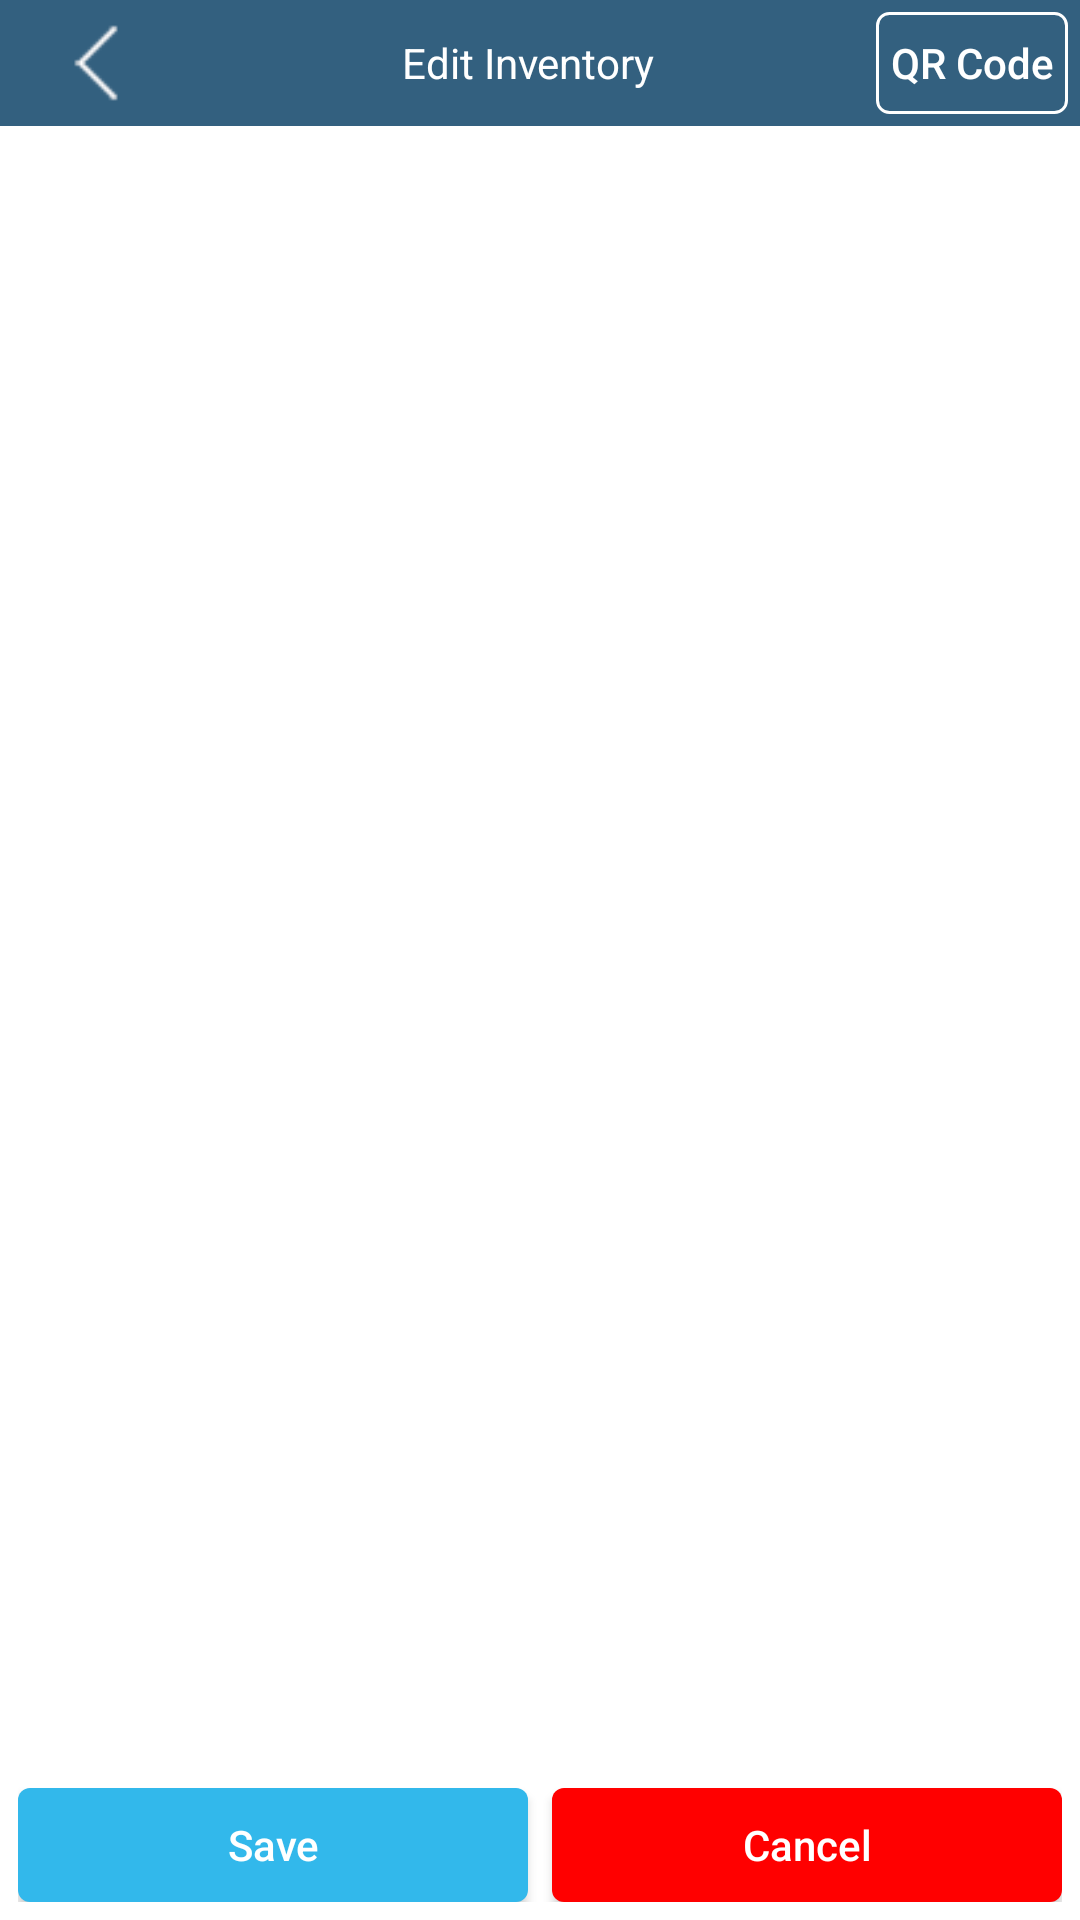

Screen size 1080px x 1920px. Icon name, then its center in pixels as (x,y):
back: (96,63)
